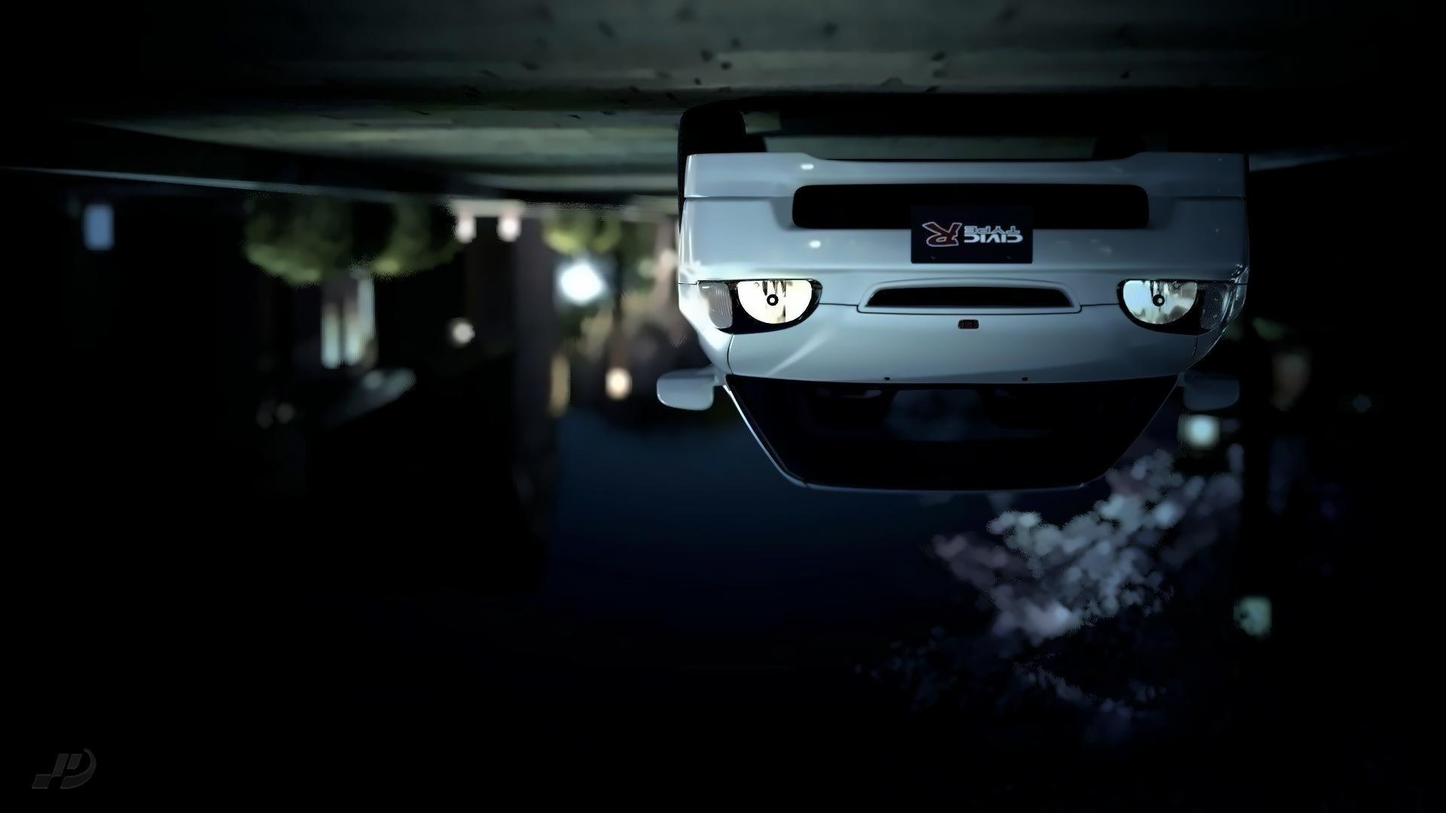Car hood: (727, 301, 1200, 388)
Front bumper: (667, 143, 1258, 277)
Headlight - -L-: (672, 267, 827, 340)
Headlight - -R-: (1110, 271, 1254, 346)
Side mirror - -L-: (648, 358, 730, 420)
Side mirror - -R-: (1172, 365, 1247, 415)
